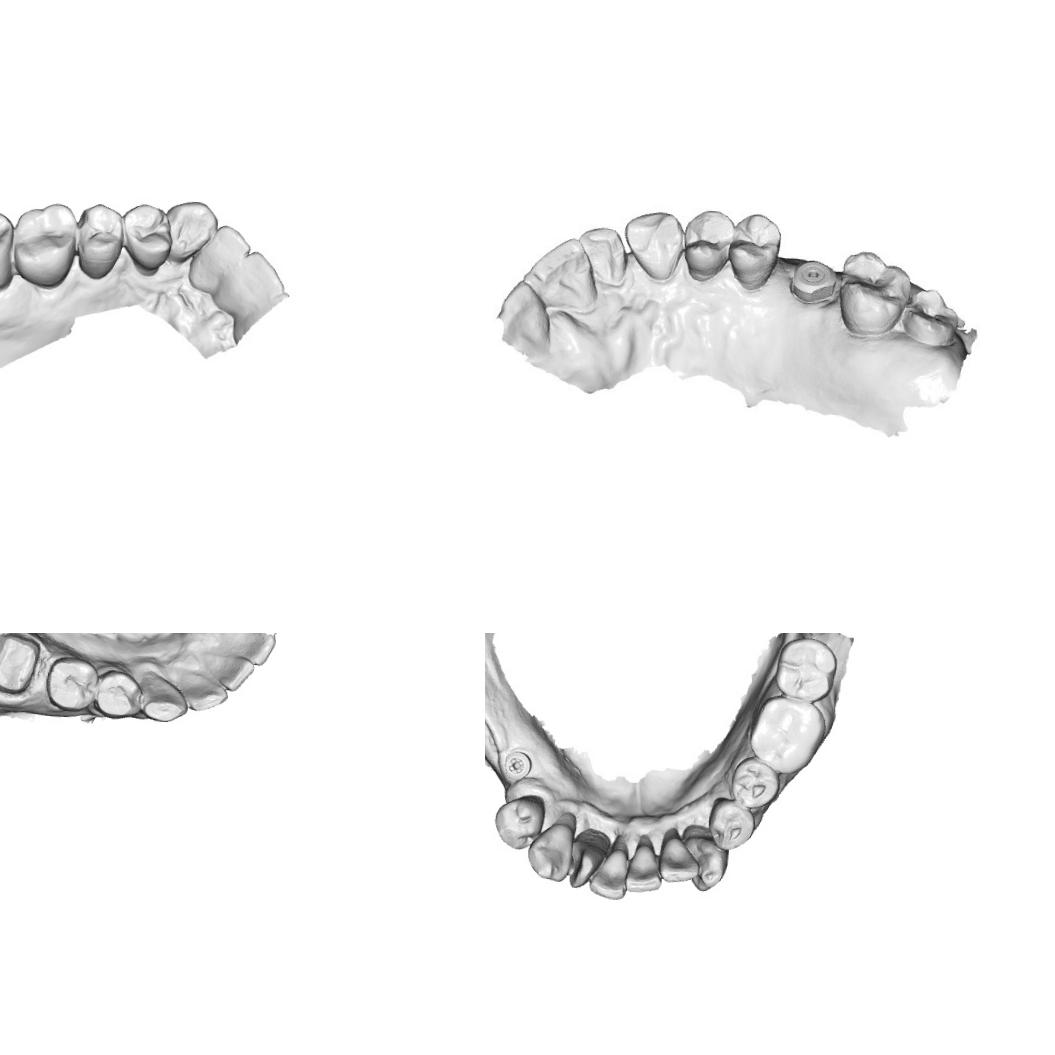canine: (624, 207, 686, 280), (164, 198, 219, 264), (524, 819, 575, 884), (137, 667, 190, 725), (681, 833, 730, 893)
crown: (0, 633, 44, 698)
implant: (788, 255, 838, 302)
implant_plus: (500, 746, 534, 782)
incisor: (520, 236, 600, 313), (214, 246, 288, 314), (189, 220, 253, 287), (579, 225, 630, 289), (194, 648, 256, 693), (171, 668, 231, 714), (585, 844, 632, 901), (622, 841, 665, 895), (657, 835, 702, 885), (564, 836, 602, 890), (222, 633, 277, 667)
molar: (744, 693, 829, 778), (9, 198, 79, 291), (839, 252, 911, 338), (770, 633, 839, 705), (898, 282, 964, 352), (0, 207, 16, 295)
premolar: (72, 200, 126, 282), (728, 212, 782, 290), (682, 205, 736, 280), (118, 200, 175, 271), (490, 790, 547, 854), (42, 652, 100, 714), (726, 754, 782, 812), (704, 796, 756, 853), (92, 666, 144, 721)
